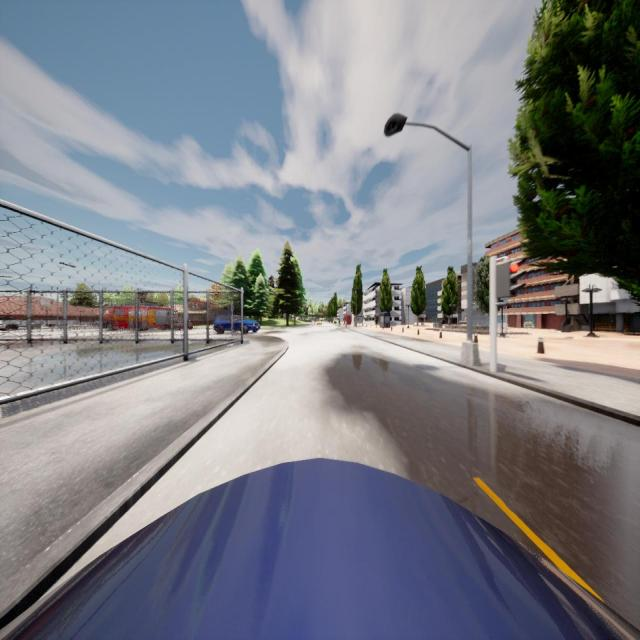Vehicle: (0, 457, 640, 640), (101, 304, 169, 331), (215, 316, 261, 333), (164, 319, 194, 331), (316, 320, 322, 326)
traffic_light: (496, 262, 520, 296)
